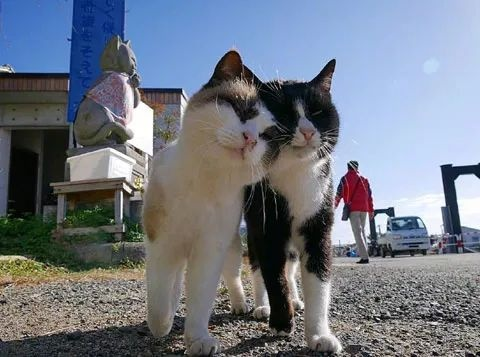cat: (140, 50, 283, 355), (242, 57, 341, 351)
